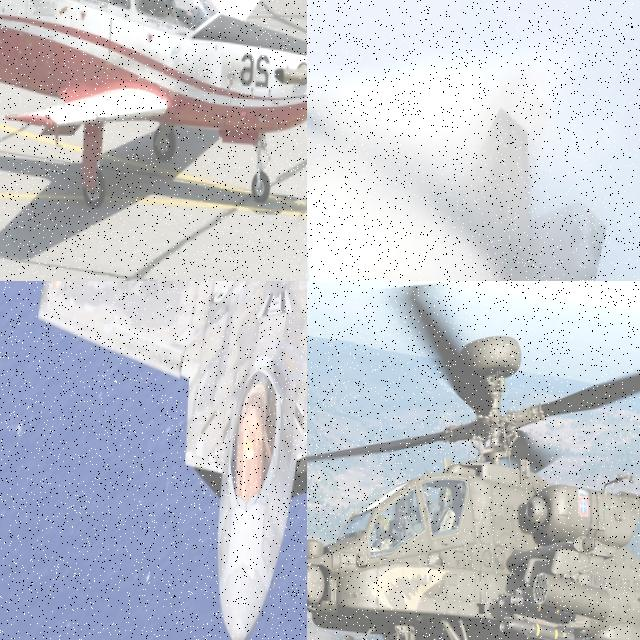Apache: (307, 281, 640, 640)
F22: (22, 281, 307, 640), (307, 11, 614, 281)
KT-1: (0, 0, 307, 207)
